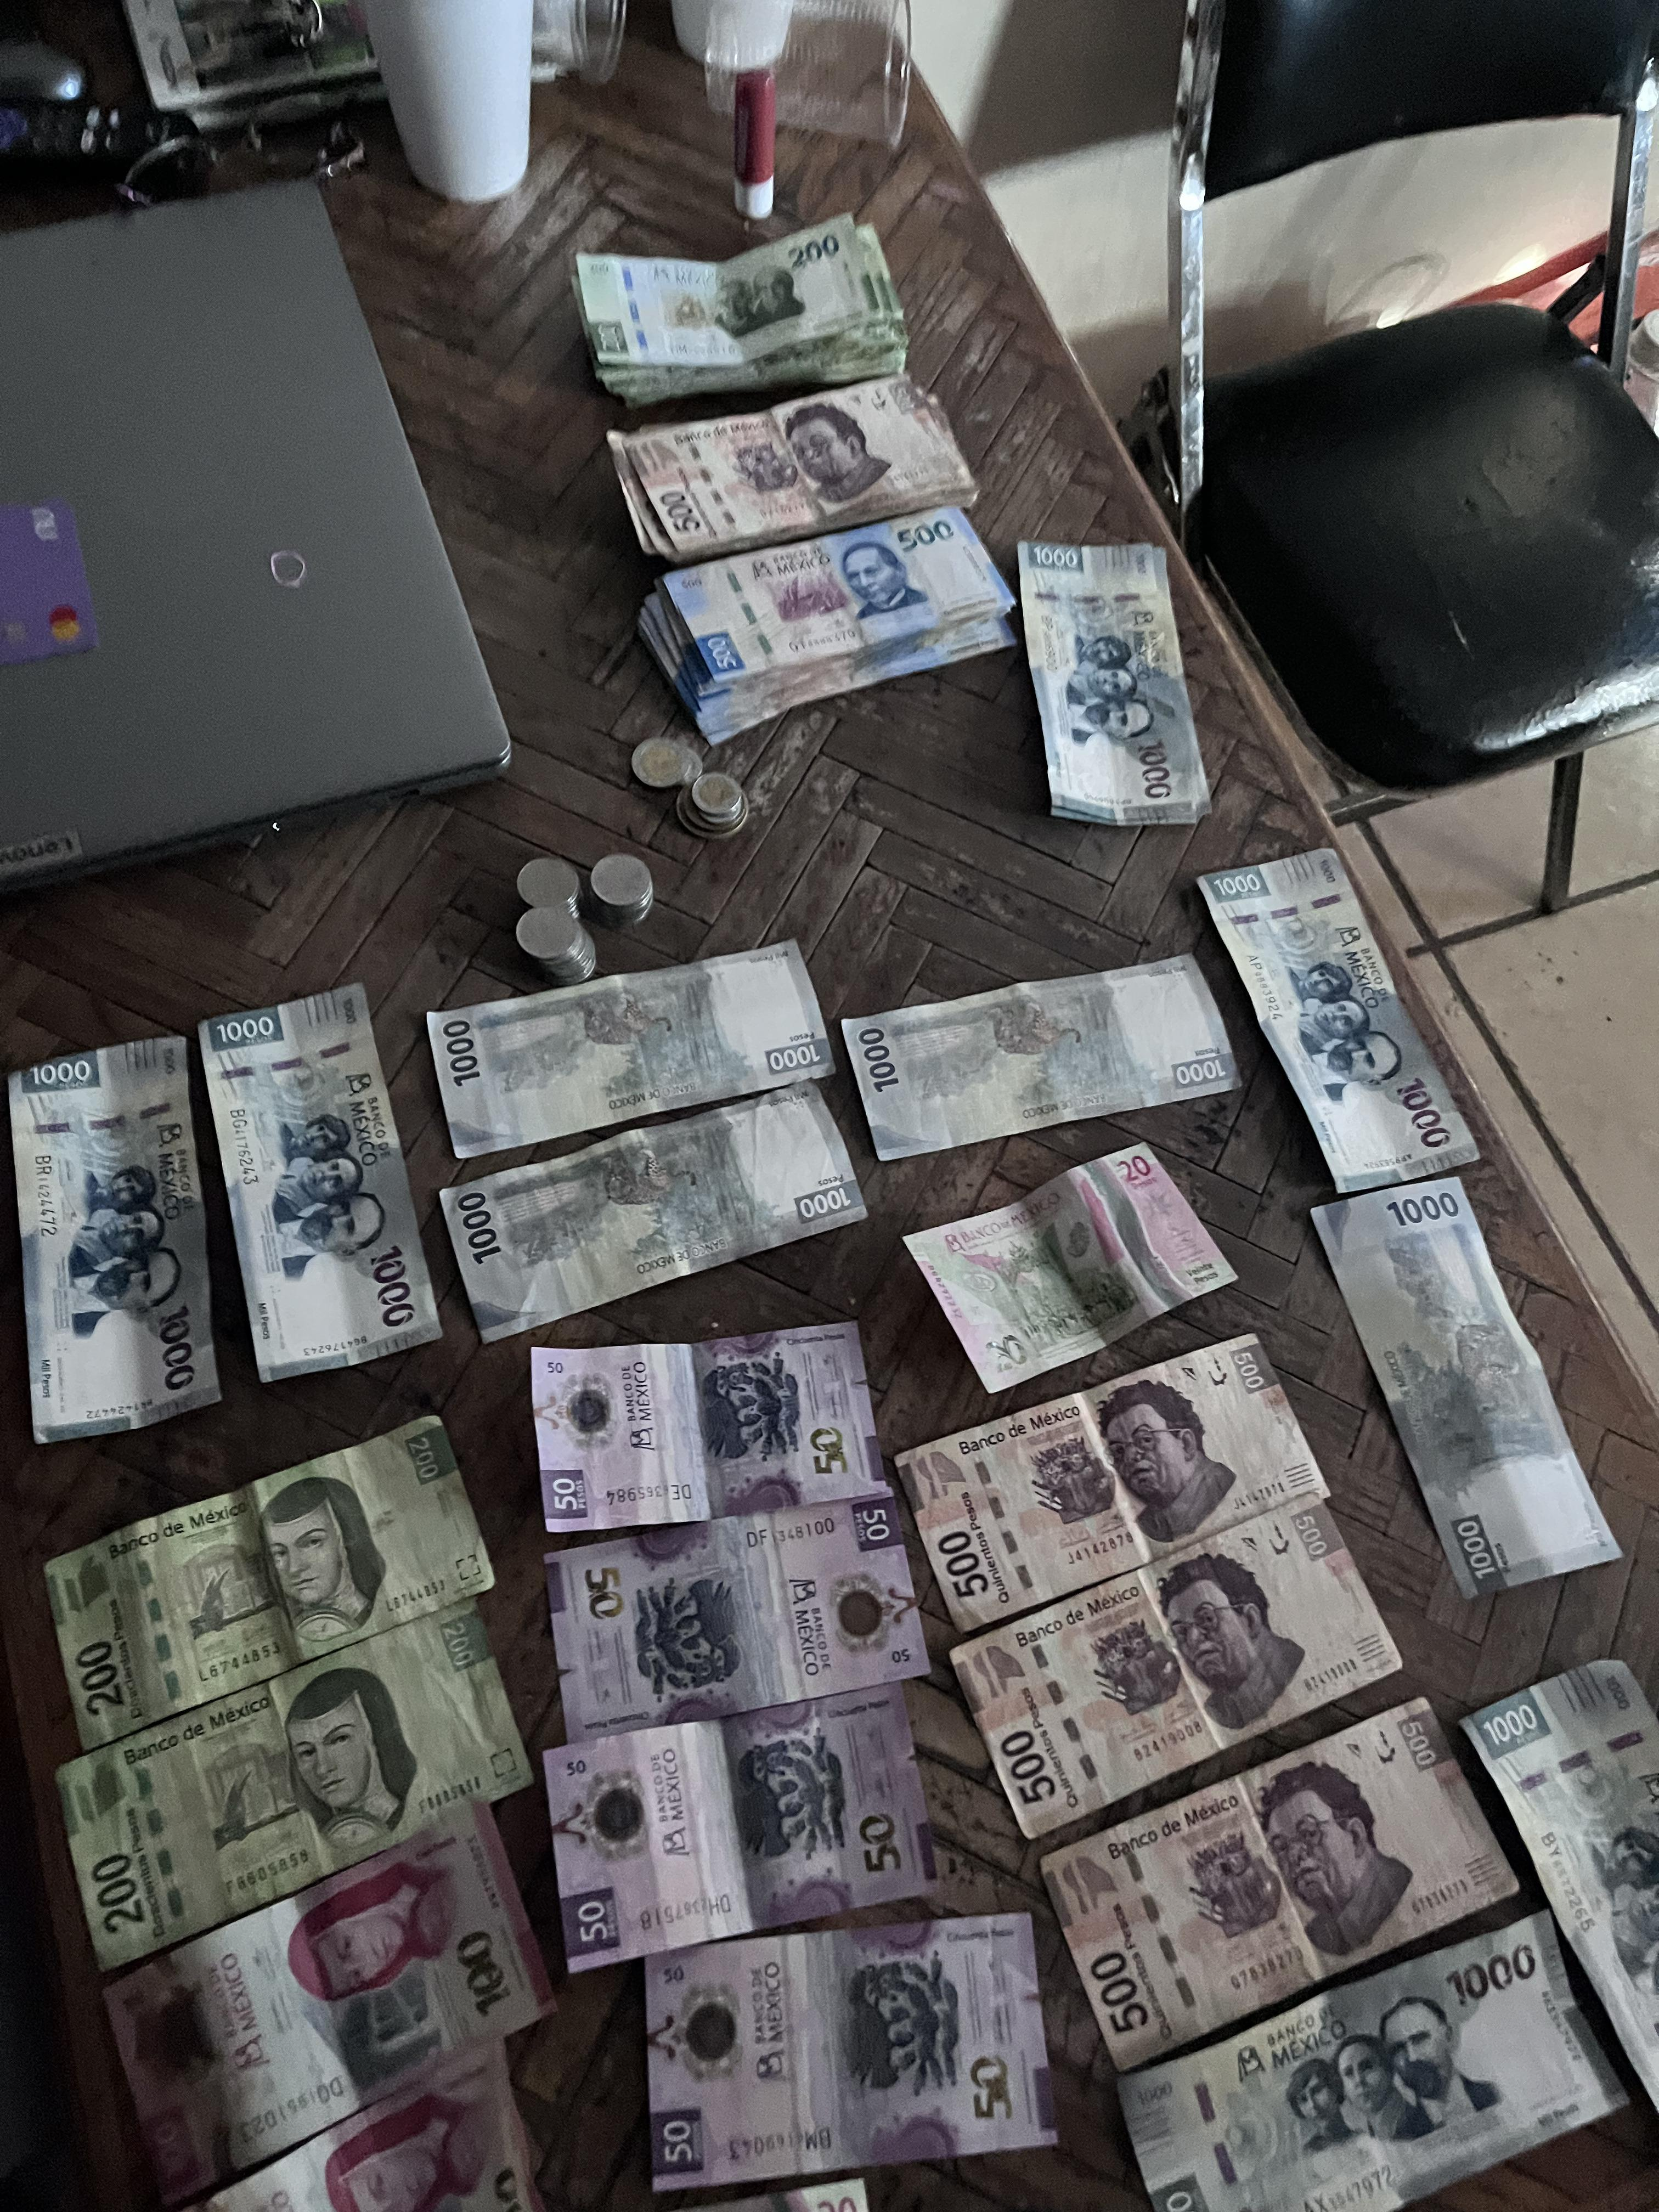1000: (1114, 1907, 1628, 2212), (1304, 1167, 1629, 1613), (430, 1075, 877, 1352), (195, 970, 443, 1388), (1190, 841, 1476, 1197), (1460, 1635, 1659, 2127), (423, 935, 836, 1162), (5, 1033, 230, 1444), (831, 951, 1249, 1162), (1016, 535, 1215, 843)
20: (885, 1136, 1251, 1393)
200: (78, 1787, 561, 2209), (24, 1588, 545, 1973), (44, 1409, 504, 1761), (131, 2029, 554, 2212), (565, 207, 894, 394)
50: (540, 1670, 927, 1979), (633, 1925, 1068, 2191), (545, 1480, 918, 1754), (518, 1336, 901, 1515)
500: (1039, 1662, 1520, 2074), (945, 1480, 1405, 1843), (894, 1334, 1356, 1644), (601, 381, 986, 556)
500 nuevo: (622, 502, 1023, 735)
